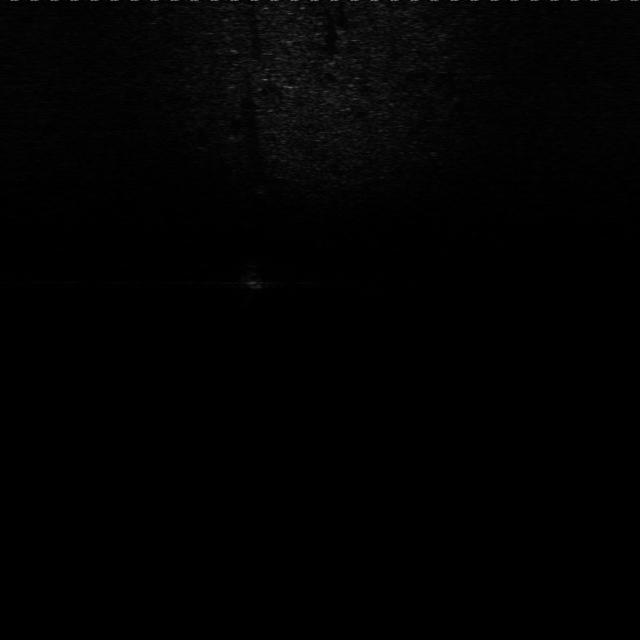human body: (240, 264, 274, 294)
